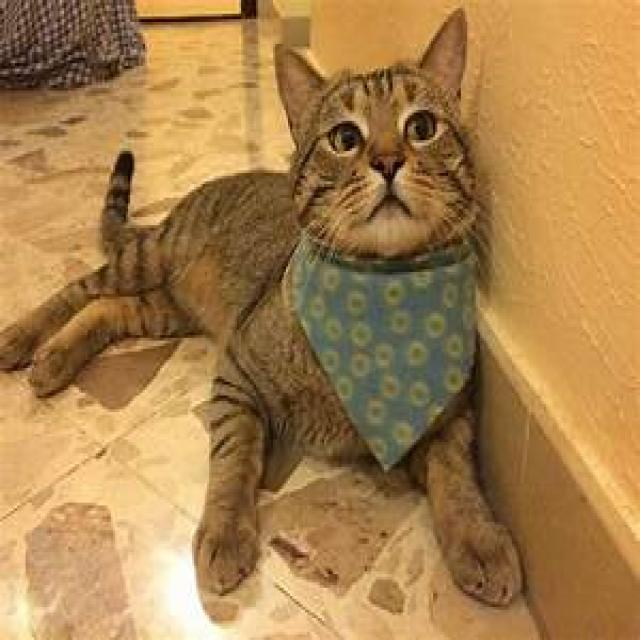cat: (0, 6, 525, 607)
